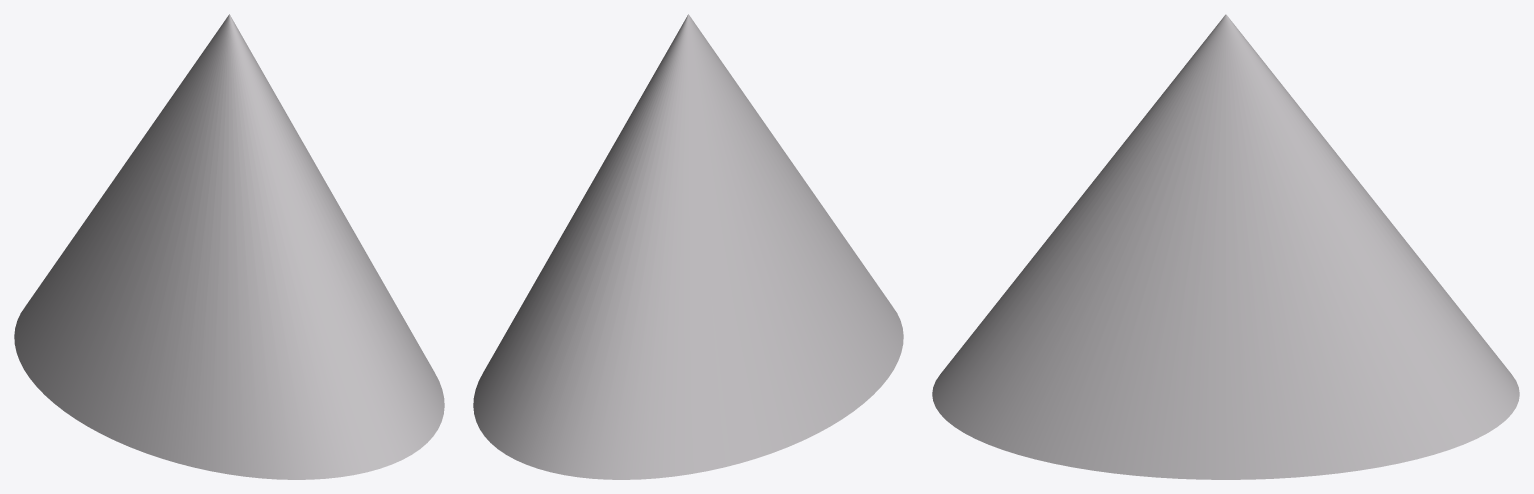
3 renders of one model, left to right at view 1: azimuth 30°, elevation 25°; view 2: azimuth 150°, elevation 25°; view 3: azimuth 270°, elevation 25°, orthographic. The views are drawn at different scales.
Parts seen in each view (by area): view 1: node_id5; view 2: node_id5; view 3: node_id5.
Boxes of the visible parts, x1,y1,x2,y2 form: node_id5: (14,14,444,479); node_id5: (473,14,903,479); node_id5: (932,14,1519,479).
Bounding box in the file's own units: 0.149 × 0.154 × 0.2158.
1 material, 1 textured.
